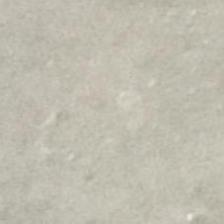Non_Crack: (11, 37, 193, 199)
